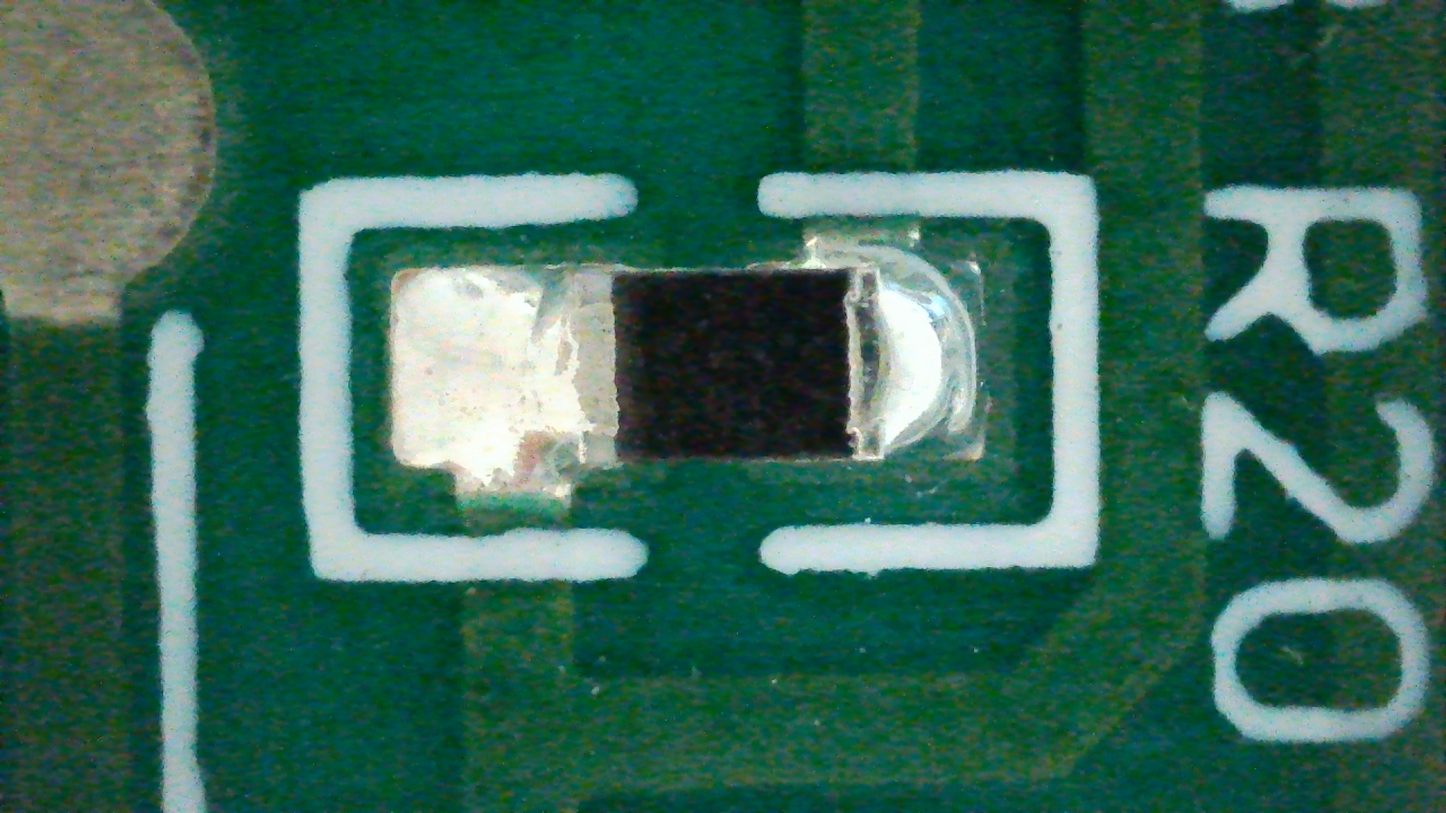OK: (390, 239, 976, 497)
